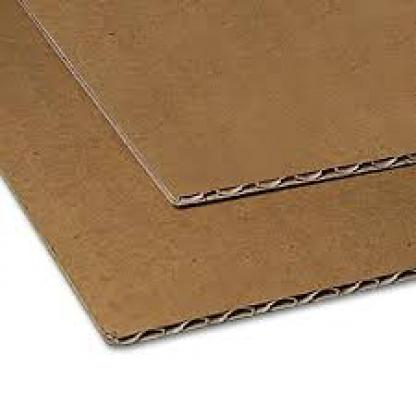CARDBOARD: (0, 0, 414, 344), (17, 0, 414, 205)
